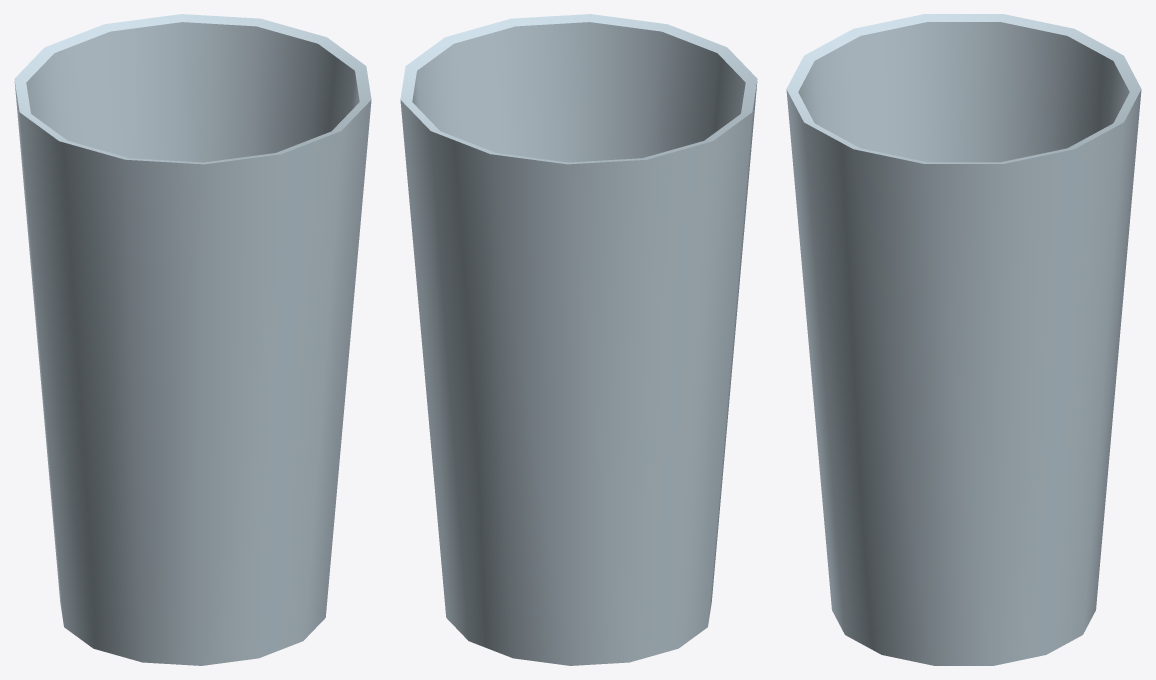
File: Glass-3.fbx
3 renders of one model, left to right at view 1: azimuth 30°, elevation 25°; view 2: azimuth 150°, elevation 25°; view 3: azimuth 270°, elevation 25°, orthographic.
Parts seen in each view (by area): view 1: Glass-3; view 2: Glass-3; view 3: Glass-3.
Boxes of the visible parts, x1,y1,x2,y2 form: Glass-3: (14,14,371,665); Glass-3: (400,14,757,665); Glass-3: (786,14,1141,665).
Size of the model in its own units: 0.0919 by 0.1489 by 0.0919.
